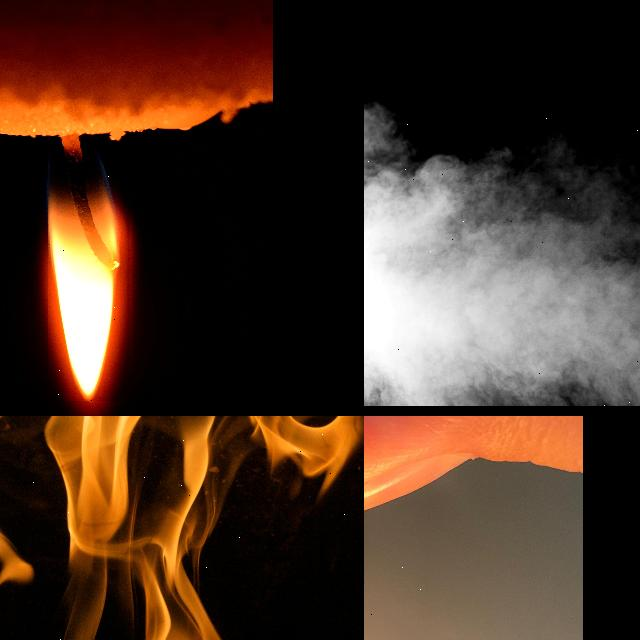fire: (46, 416, 362, 640), (48, 136, 129, 401)
smoke: (364, 107, 640, 406)
